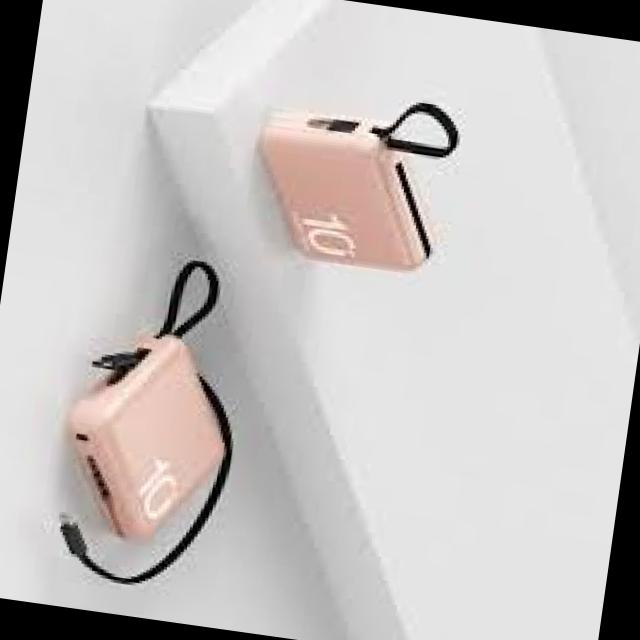power_bank: (44, 326, 240, 564), (247, 98, 448, 280)
